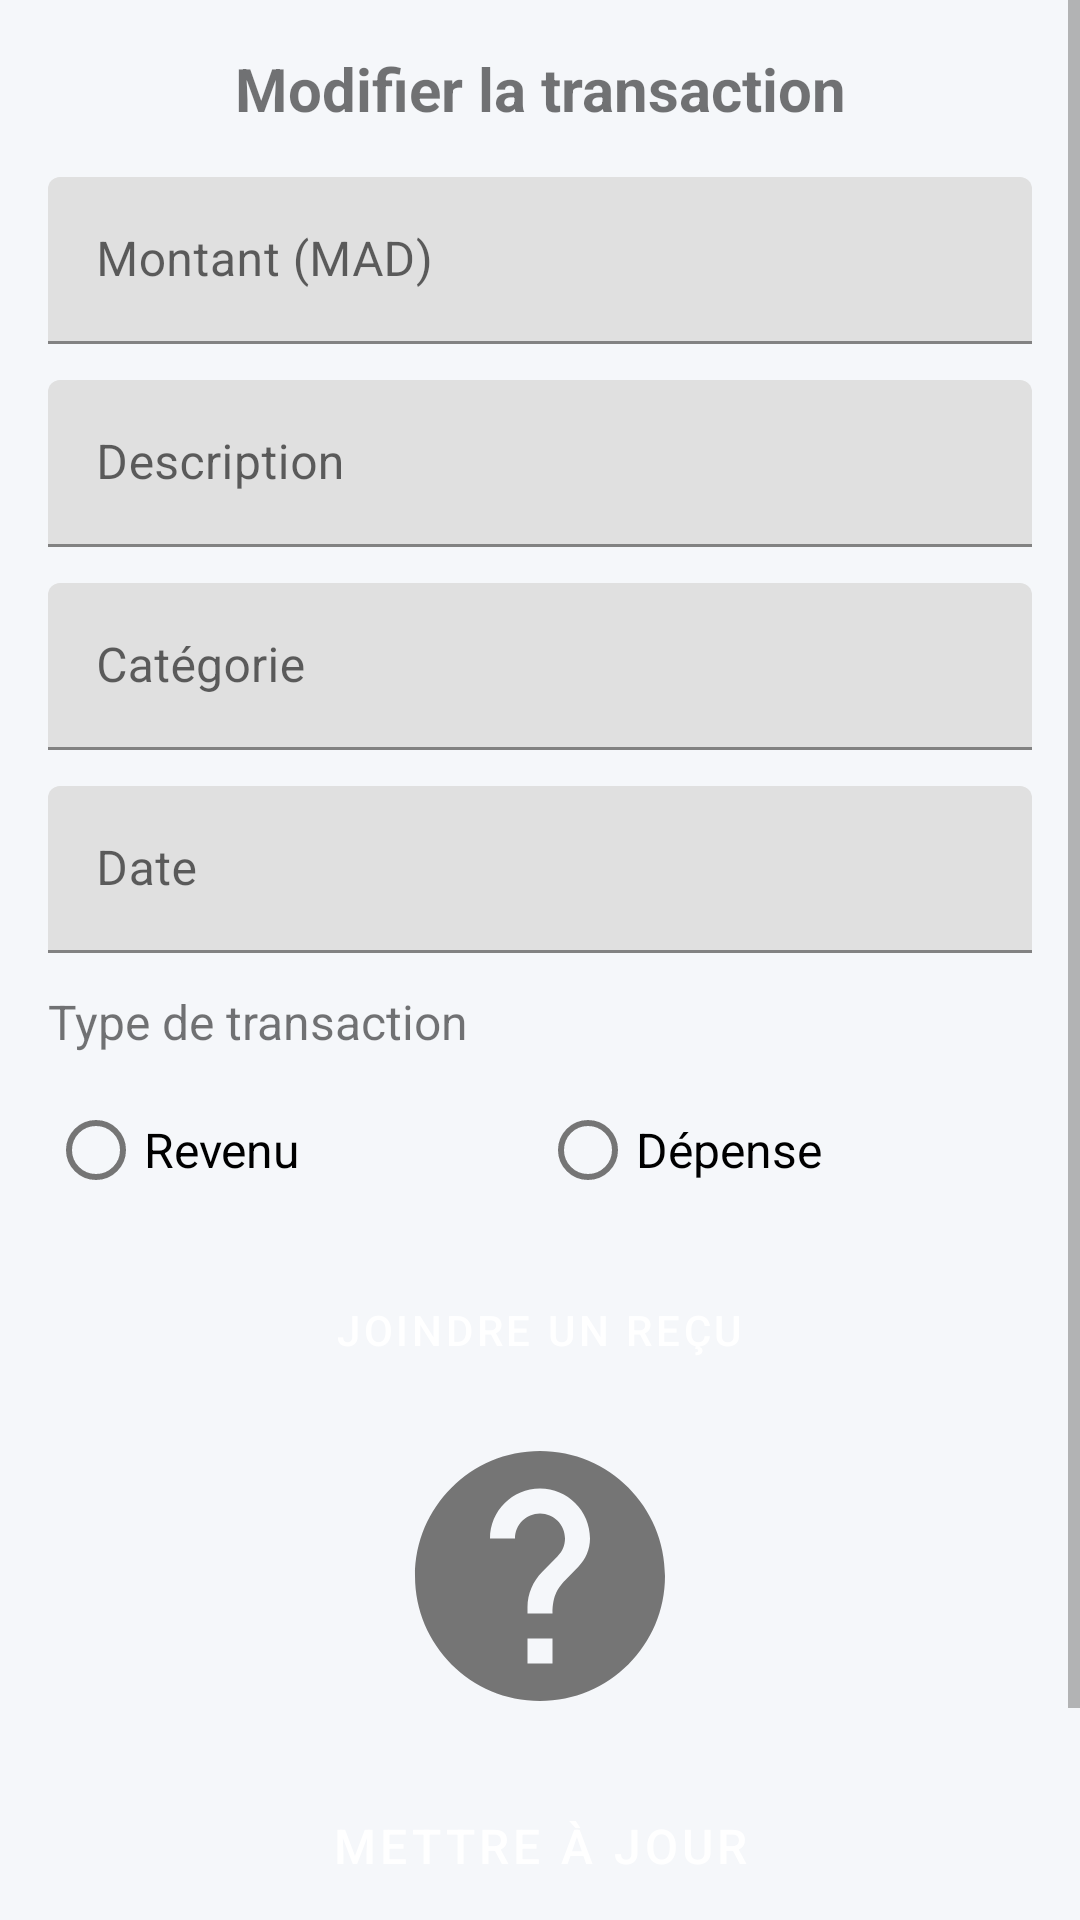

Locate icon controls on the screen. Image size 1080*1920, boxes as [x1,y1,x2,y2].
other: [415,1451,665,1701]
